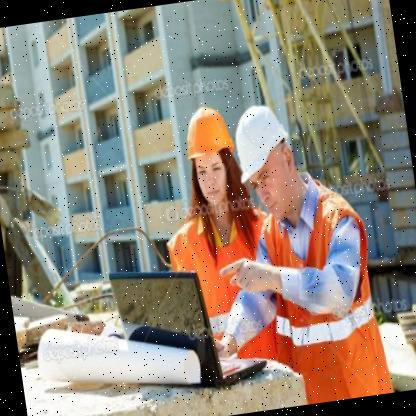capacete: (228, 98, 295, 188), (178, 99, 238, 169)
